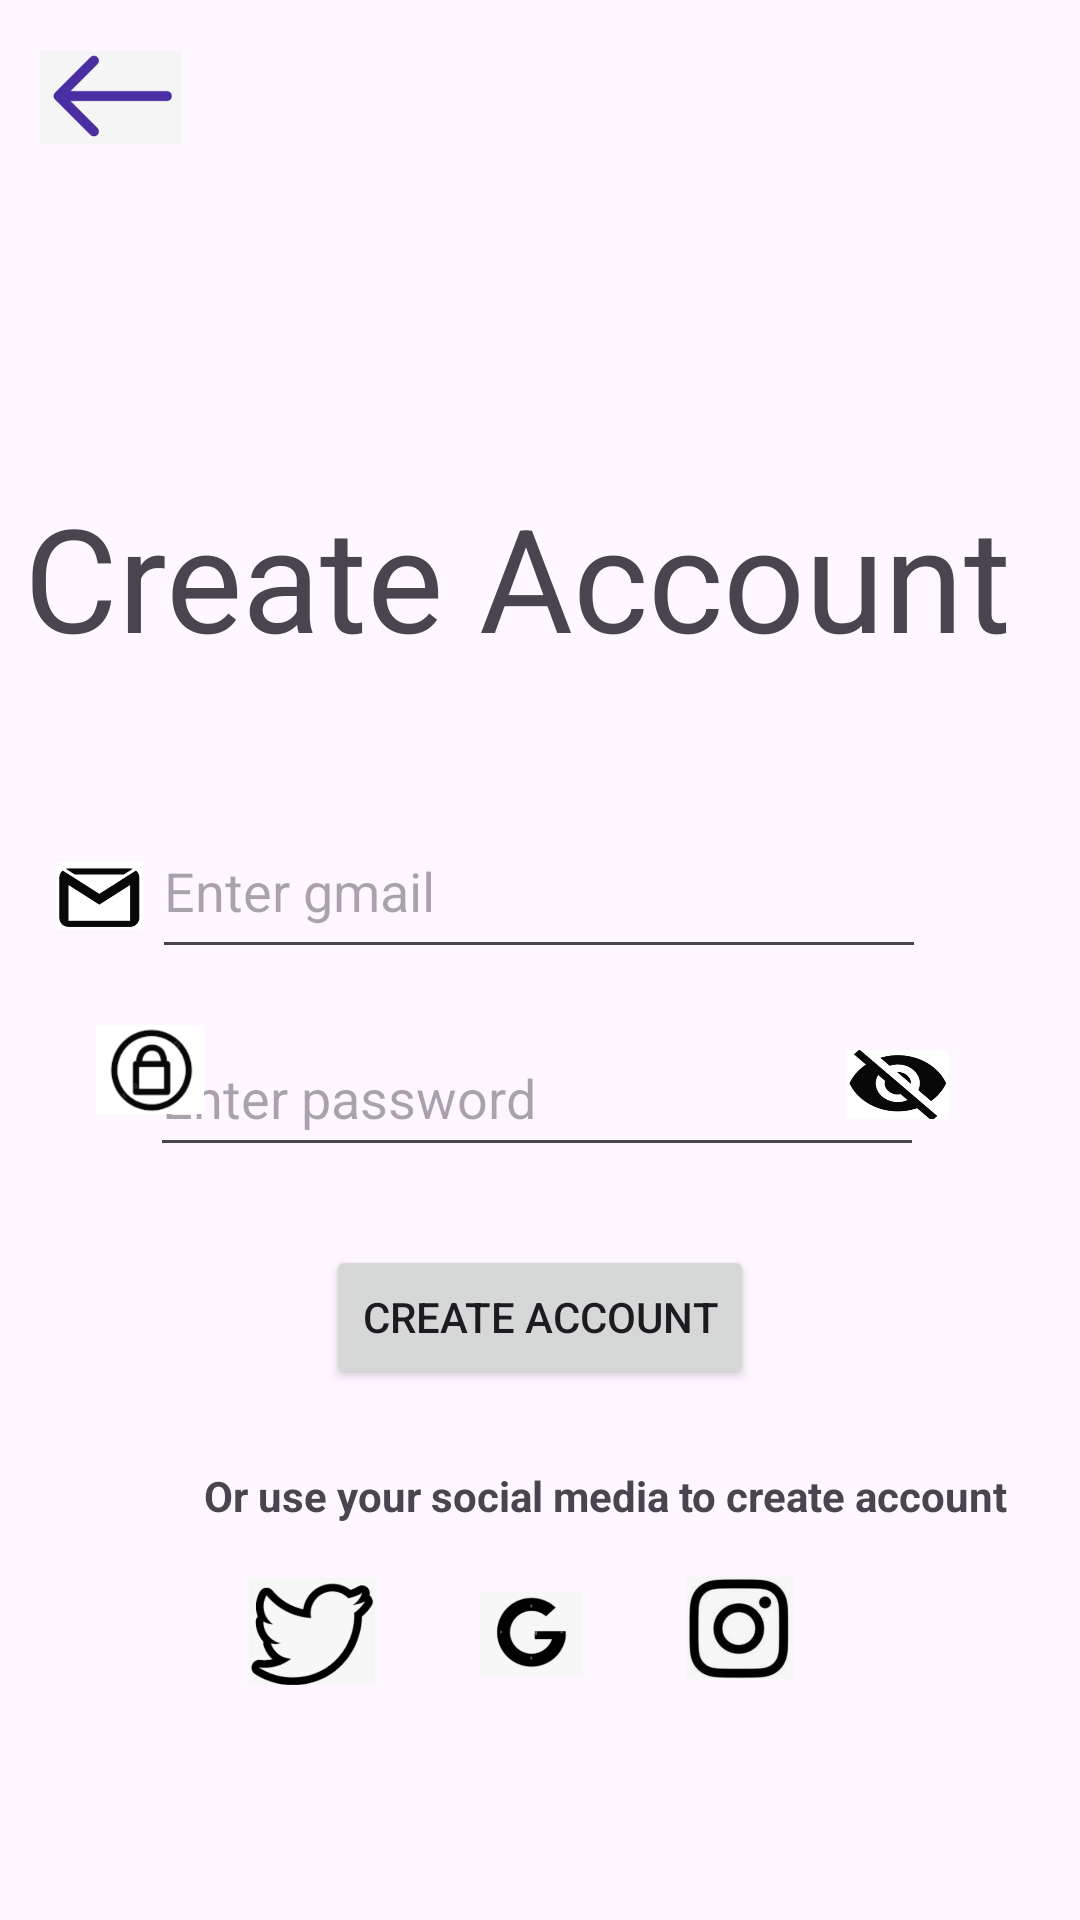

Screen size 1080px x 1920px. Icon name, then its box in pixels as (x1, y1, x2, y2):
back: (40, 51, 181, 144)
eye visibility: (849, 1050, 946, 1119)
